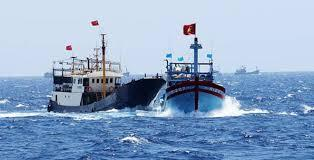Ship: (49, 35, 167, 113), (162, 38, 227, 114), (235, 66, 261, 76)
